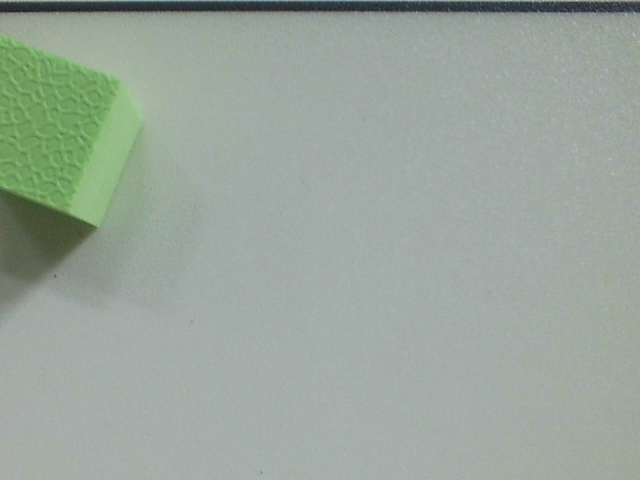greencube: (1, 35, 156, 234)
